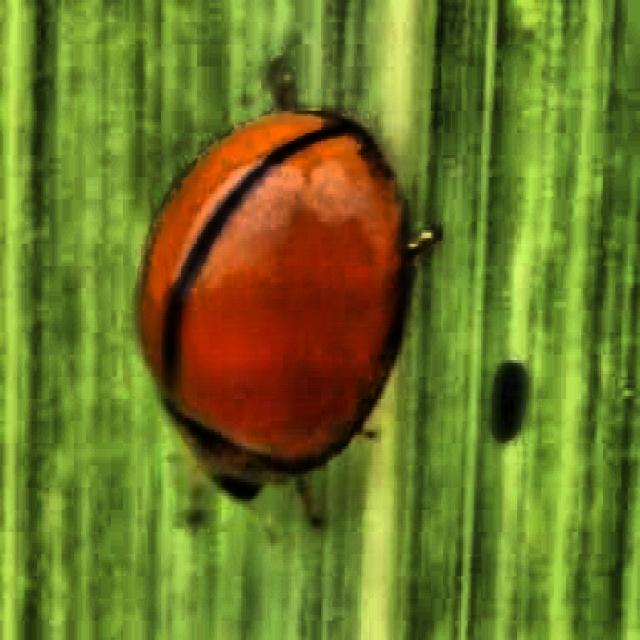Ladybug: (78, 19, 456, 620)
